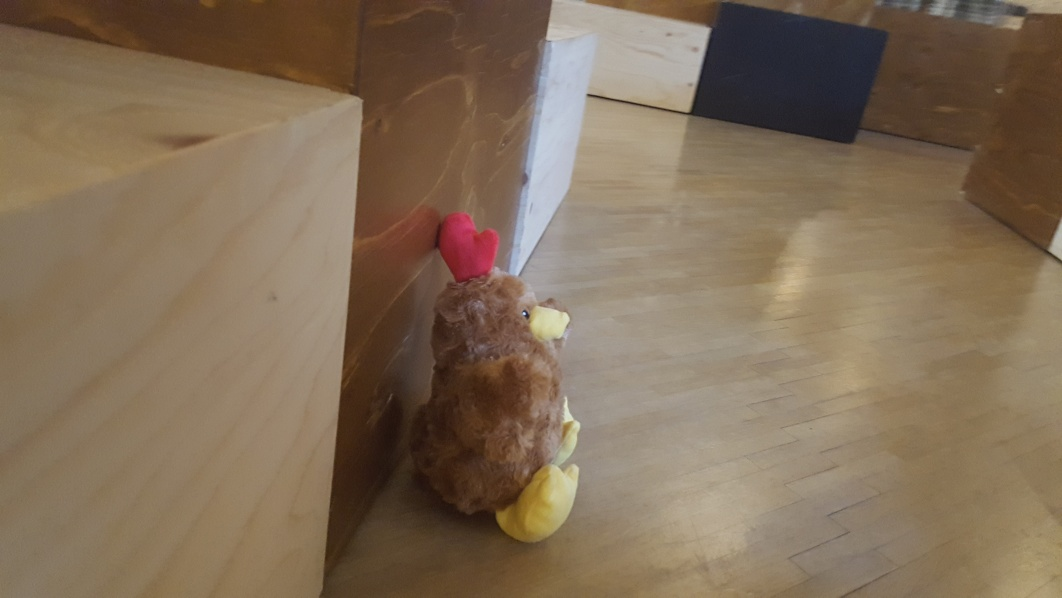chicken: (411, 213, 593, 555)
